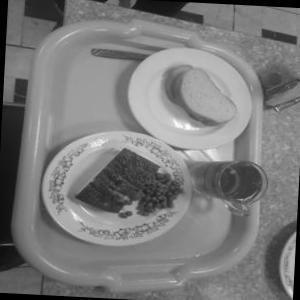bread: (152, 57, 244, 131)
casserole: (77, 138, 186, 229)
tea: (190, 146, 270, 216)
